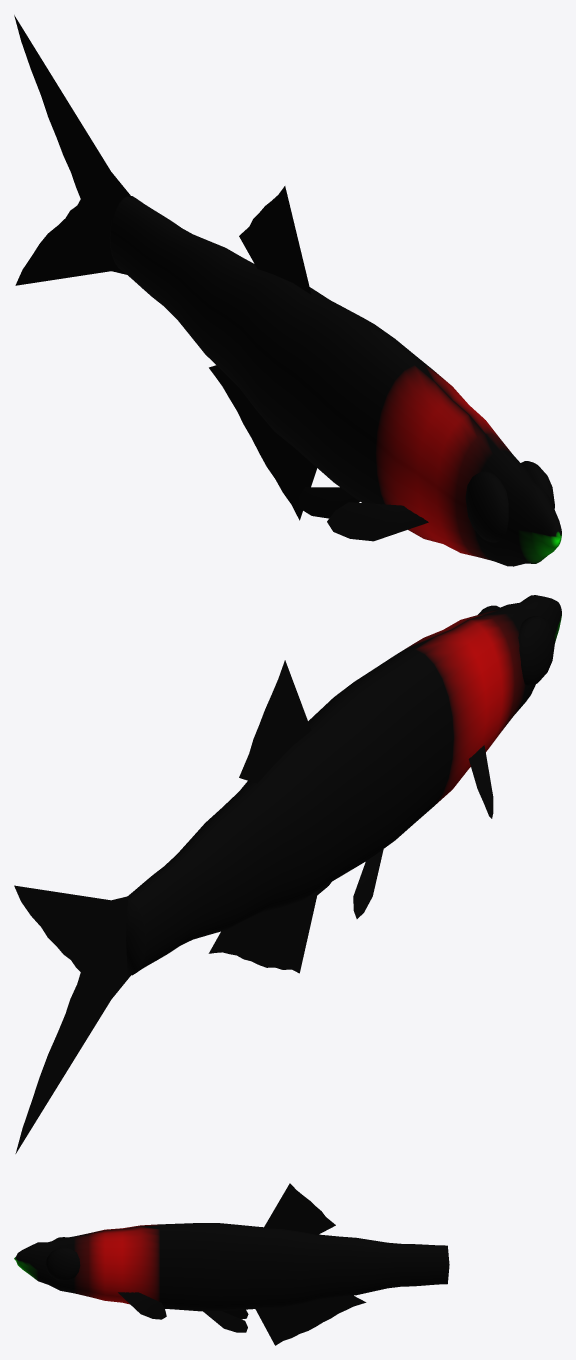
The model's file is zebra-danio.glb.
3 views of the same model, one above another, from view 1: azimuth 30°, elevation 25°; view 2: azimuth 150°, elevation 25°; view 3: azimuth 270°, elevation 25° (orthographic). The views are drawn at different scales.
Visible parts, largest first — view 1: danio_body, danio_caudal, danio_anal, danio_dorsal, danio_pectoralL, danio_eyeL, danio_pelvicL; view 2: danio_body, danio_caudal, danio_anal, danio_dorsal, danio_eyeL, danio_pelvicL, danio_pectoralL; view 3: danio_body, danio_anal, danio_dorsal, danio_eyeR, danio_pectoralR, danio_pelvicR.
Part boxes in pixels (<box>): danio_body: <box>109,196,561,566</box>; danio_caudal: <box>14,15,131,285</box>; danio_anal: <box>209,365,317,520</box>; danio_dorsal: <box>239,186,311,294</box>; danio_pectoralL: <box>327,502,428,541</box>; danio_eyeL: <box>465,471,508,542</box>; danio_pelvicL: <box>299,487,359,518</box>; danio_body: <box>126,595,561,975</box>; danio_caudal: <box>14,885,131,1153</box>; danio_anal: <box>208,890,318,973</box>; danio_dorsal: <box>239,660,311,783</box>; danio_eyeL: <box>518,616,554,686</box>; danio_pelvicL: <box>353,849,383,918</box>; danio_pectoralL: <box>468,745,493,818</box>; danio_body: <box>14,1223,449,1311</box>; danio_anal: <box>255,1295,366,1345</box>; danio_dorsal: <box>263,1183,335,1234</box>; danio_eyeR: <box>45,1247,80,1280</box>; danio_pectoralR: <box>118,1292,166,1319</box>; danio_pelvicR: <box>203,1311,247,1332</box>.
Size of the model in its own units: 0.2169 by 0.4143 by 1.26.
